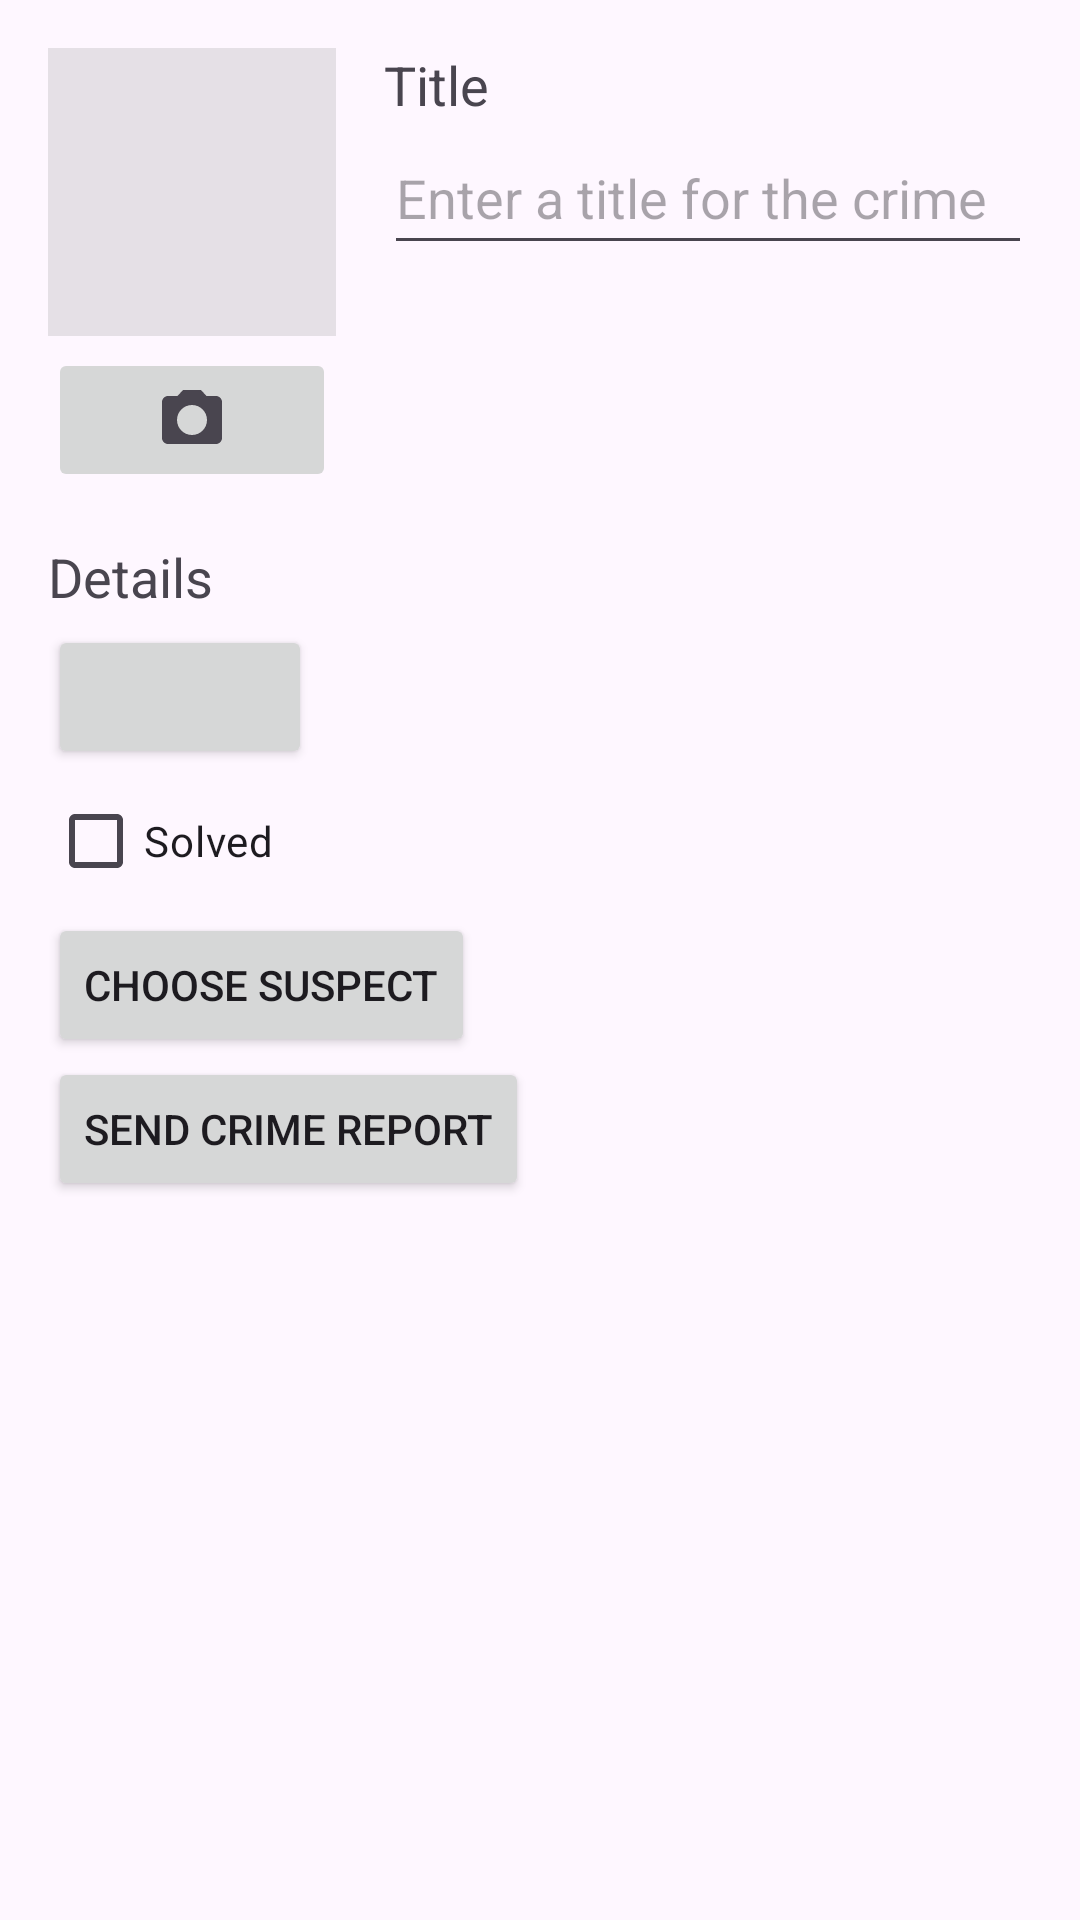

Locate icon controls on the screen. Image size 1080px×1920px, boxes as {"left": x1, "top": y1, "right": x2, "bottom": y2}.
Take a photo of the crime scene: {"left": 60, "top": 366, "right": 324, "bottom": 474}
